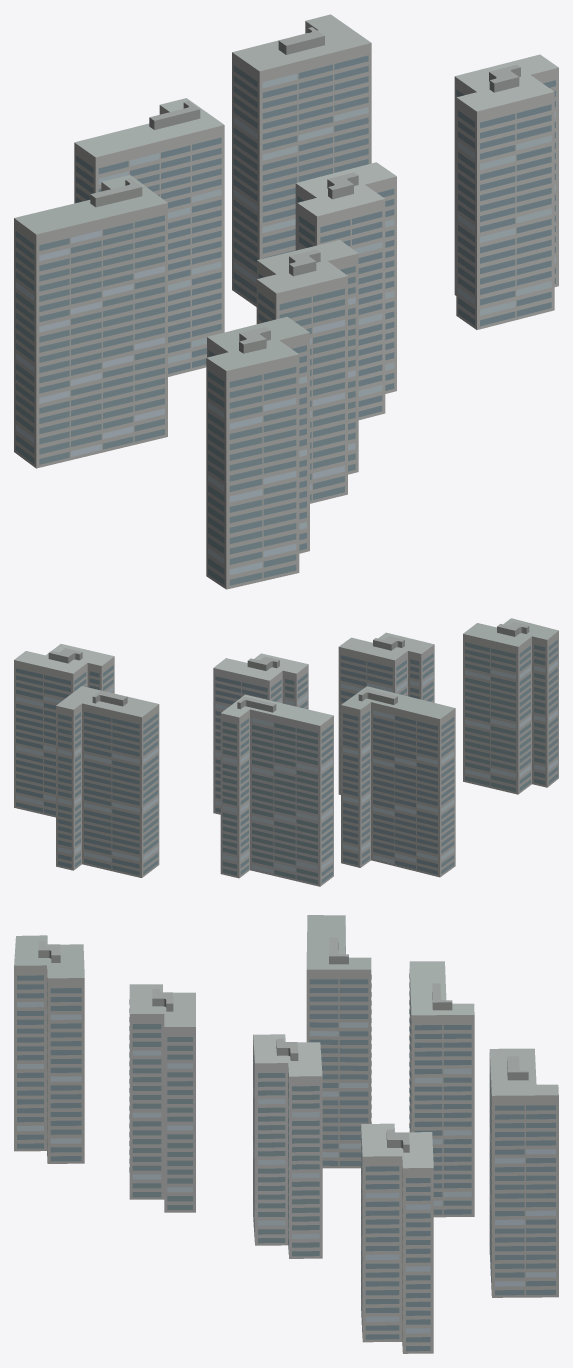
The model's file is apt-a15101507.glb.
The picture shows the model from 3 angles, top to bottom: view 1: azimuth 30°, elevation 25°; view 2: azimuth 150°, elevation 25°; view 3: azimuth 270°, elevation 25°; orthographic projection. The views are drawn at different scales.
Visible parts, largest first — view 1: apt-a15101507; view 2: apt-a15101507; view 3: apt-a15101507.
Part boxes in pixels (x1,y1,x2,y2): apt-a15101507: (14,14,558,589); apt-a15101507: (14,618,558,886); apt-a15101507: (14,915,558,1353).
Size of the model in its own units: 157 by 64 by 151.
